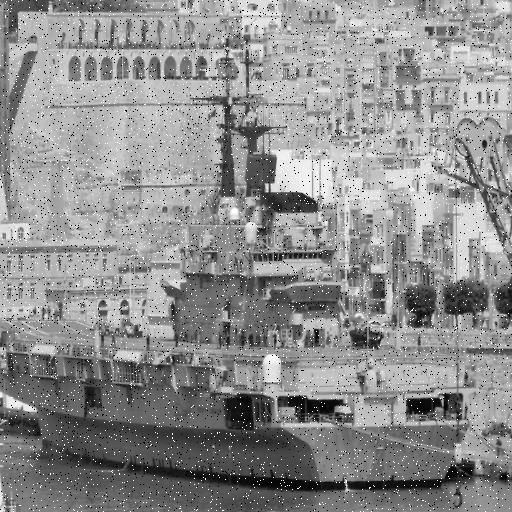Portanaves: (1, 33, 472, 495)
